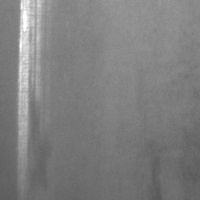inclusion: (146, 156, 164, 199)
scratches: (18, 1, 43, 156)
